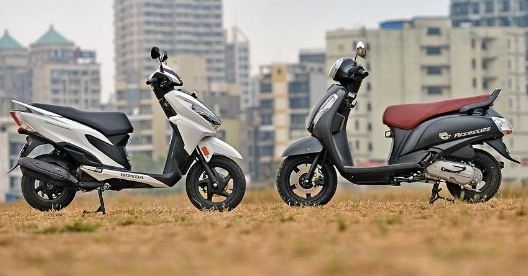bike: (275, 39, 522, 207), (7, 45, 247, 215)
